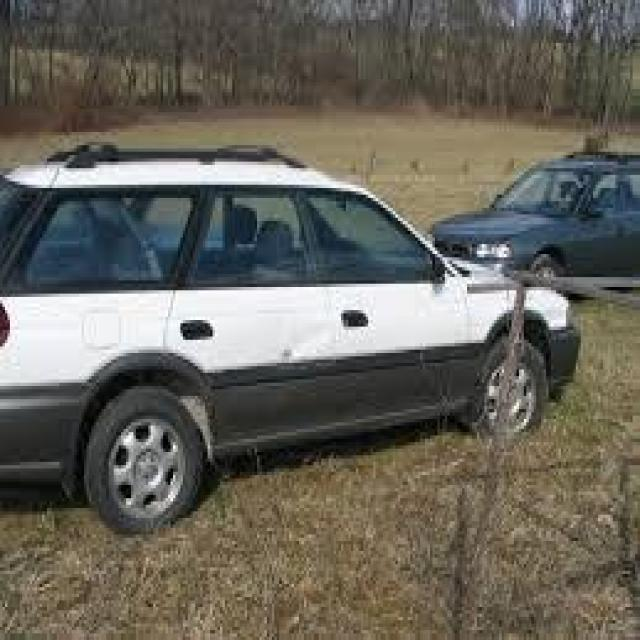damaged: (466, 274, 558, 426)
